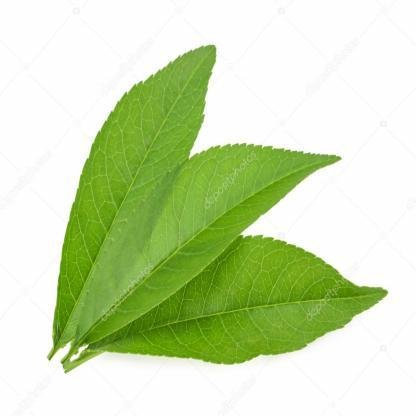Peach leaf: (42, 136, 343, 340), (45, 34, 222, 350), (52, 229, 394, 386)
